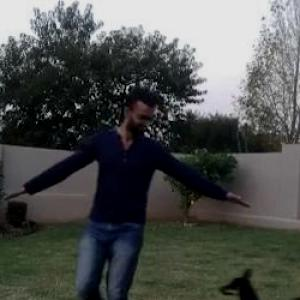land: (24, 94, 242, 298)
